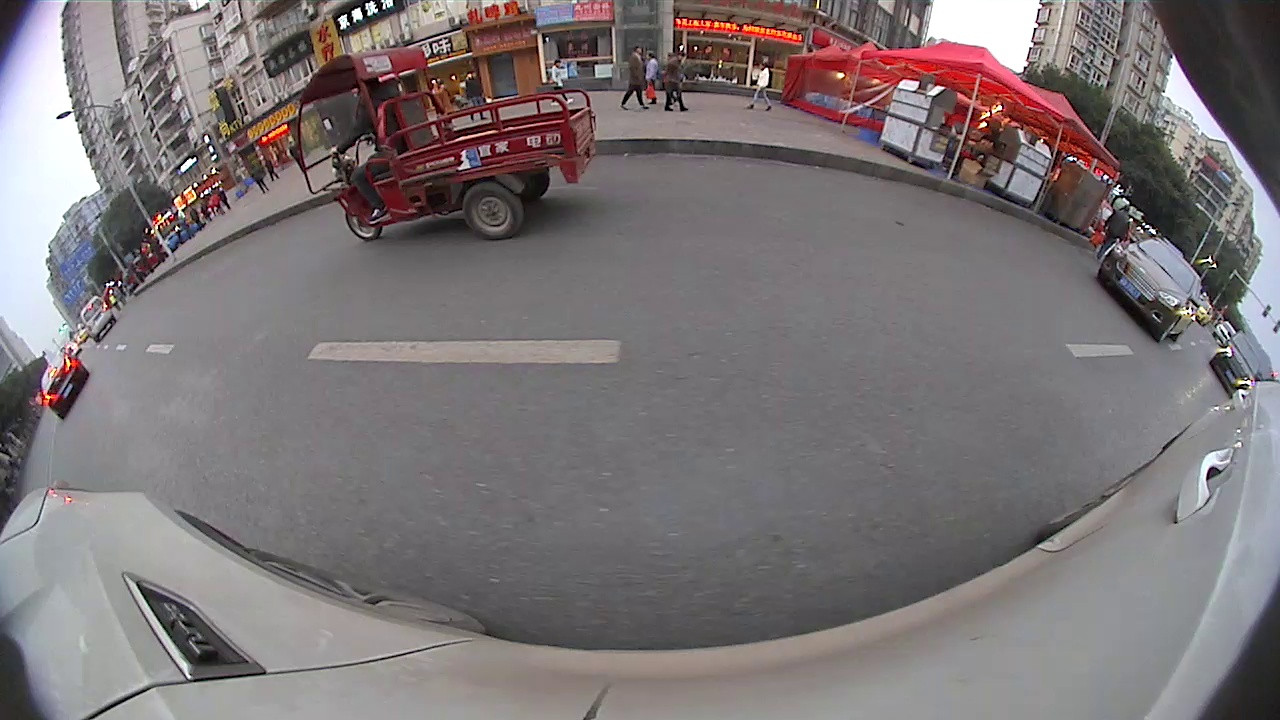car: (1095, 228, 1206, 347), (37, 350, 92, 422), (1211, 326, 1265, 396), (72, 290, 123, 341)
front: (343, 194, 385, 245)
person: (663, 47, 688, 112), (626, 42, 649, 112), (758, 57, 773, 112)
rear: (457, 177, 527, 241)
rider: (294, 49, 601, 243)
